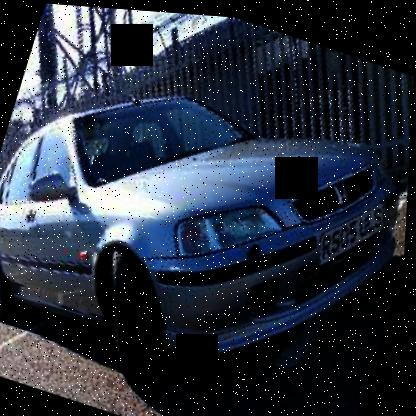not_emergency: (0, 46, 414, 415)
